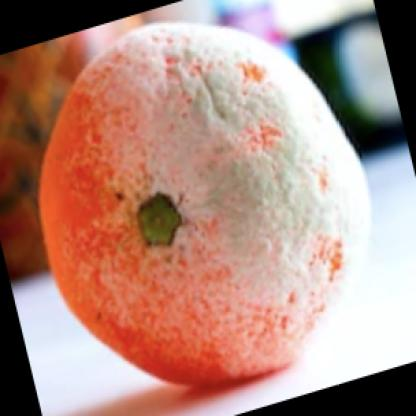rotten: (44, 24, 363, 380)
